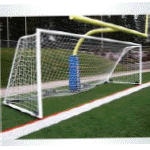goals: (2, 25, 143, 121)
